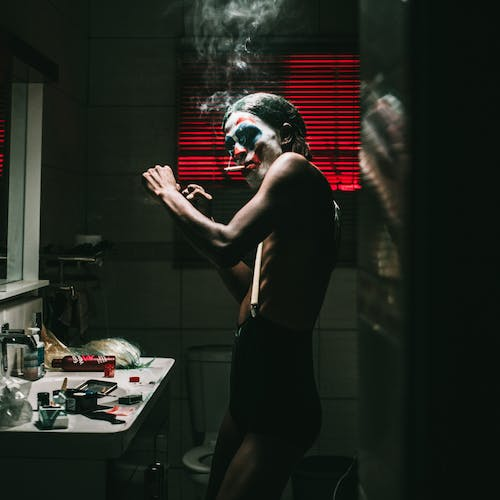cigarette: (221, 163, 246, 173)
